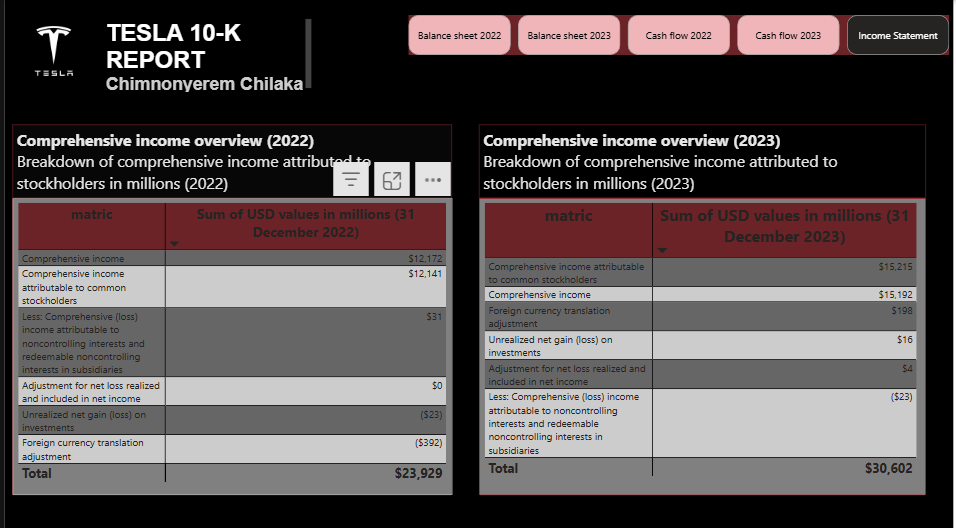

What the dashboard file says about the page in this screenshot:
{"tool":"powerbi","page":{"name":"Income Statement","canvas":[1280,720],"ordinal":4},"visuals":[{"type":"image","box":[0,0,132.4,137.9],"z":0},{"type":"textbox","box":[132.4,19.3,286.9,107.6],"z":1000},{"type":"tableEx","fields":{"Values":["income_statement.matric","Sum(income_statement.USD values in millions (31 December 2022))"]},"box":[10.1,267.3,593.4,401],"z":2000},{"type":"textbox","box":[10.1,168.1,593.4,99.2],"z":3000},{"type":"pageNavigator","box":[544,20,730,54],"z":4000},{"type":"tableEx","fields":{"Values":["income_statement.matric","Sum(income_statement.USD values in millions (31 December 2023))"]},"box":[640,267.3,603.5,401],"z":5000},{"type":"textbox","box":[640,168.1,603.5,99.2],"z":6000}]}

Visuals, with their boxes in screenshot pixels (x1, y1, x2, y2), scaled from the page's 1280x720 canvas onto the 956x528 screenshot:
image: crop(0, 0, 99, 101)
textbox: crop(99, 14, 313, 93)
tableEx - income_statement.matric x Sum(income_statement.USD values in millions (31 December 2022)): crop(8, 196, 451, 490)
textbox: crop(8, 123, 451, 196)
pageNavigator: crop(406, 15, 952, 54)
tableEx - income_statement.matric x Sum(income_statement.USD values in millions (31 December 2023)): crop(478, 196, 929, 490)
textbox: crop(478, 123, 929, 196)
